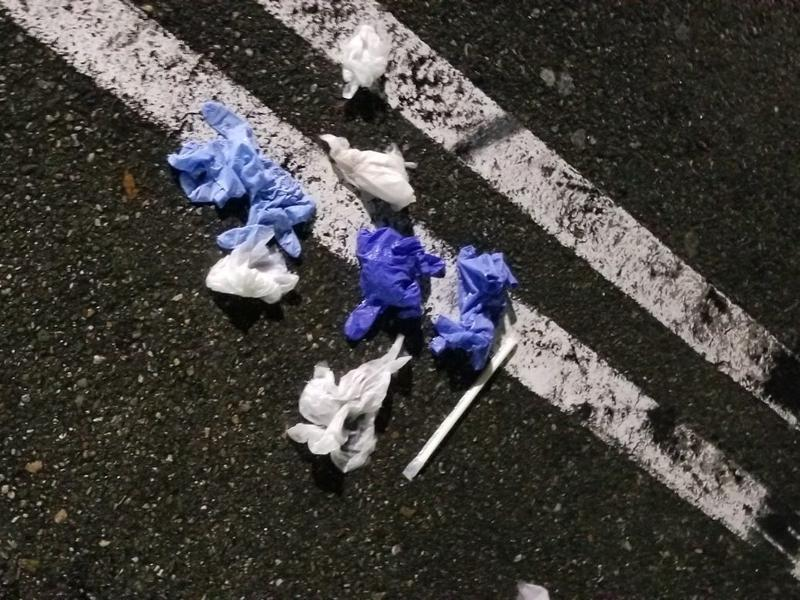gloves: (167, 92, 314, 255), (282, 336, 412, 474), (335, 220, 448, 338), (429, 237, 522, 363), (318, 122, 426, 210), (325, 15, 410, 102), (195, 238, 307, 304)
